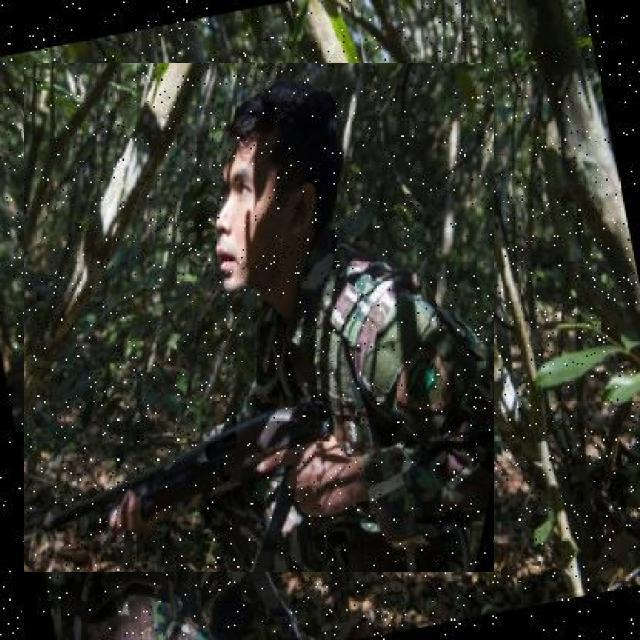Hunter: (170, 81, 497, 573)
Rifle: (40, 392, 338, 576)
